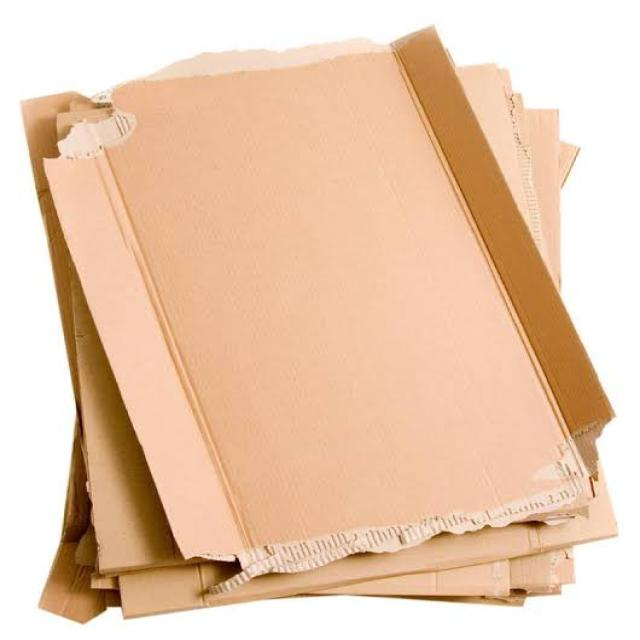paper: (24, 20, 639, 626)
